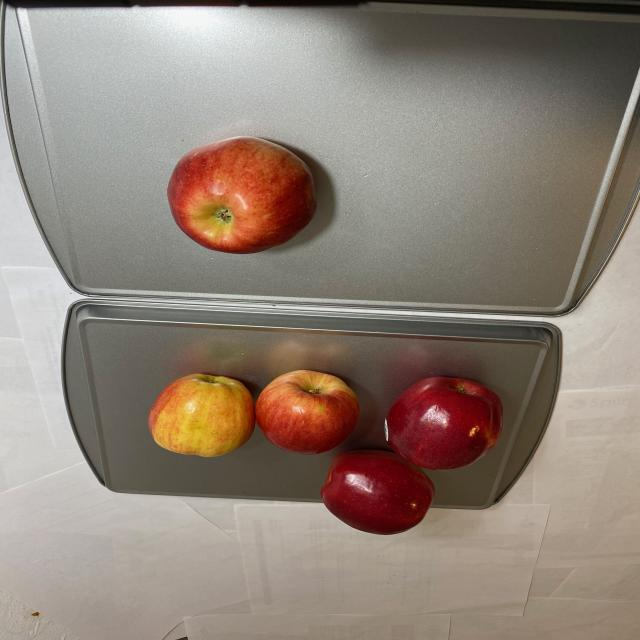apple: (147, 370, 509, 536), (167, 134, 324, 256)
